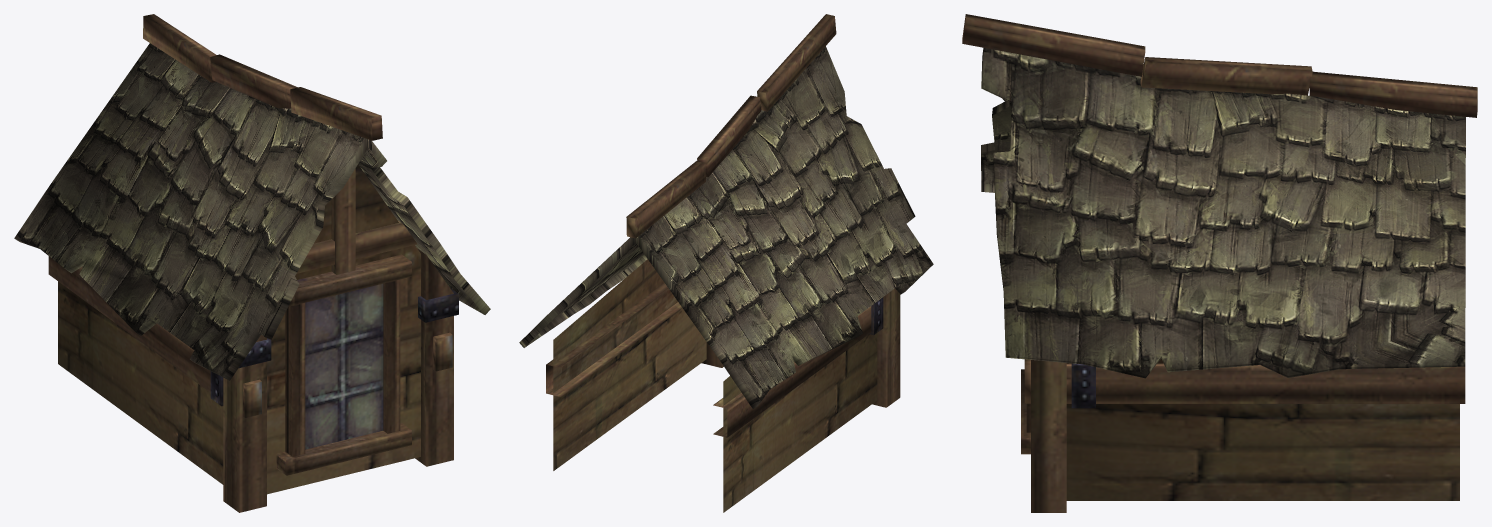
File: Scene_Building_Elements_02.FBX
3 views of the same model, side by side, from view 1: azimuth 30°, elevation 25°; view 2: azimuth 150°, elevation 25°; view 3: azimuth 270°, elevation 25° (orthographic). The views are drawn at different scales.
Parts seen in each view (by area): view 1: Scene_Building_Elements_02; view 2: Scene_Building_Elements_02; view 3: Scene_Building_Elements_02.
Part boxes in pixels (left/top/right/bottom): Scene_Building_Elements_02: left=14, top=14, right=490, bottom=512; Scene_Building_Elements_02: left=519, top=14, right=933, bottom=512; Scene_Building_Elements_02: left=962, top=14, right=1477, bottom=512.
Bounding box in the file's own units: 3.69 × 4.98 × 5.31.
